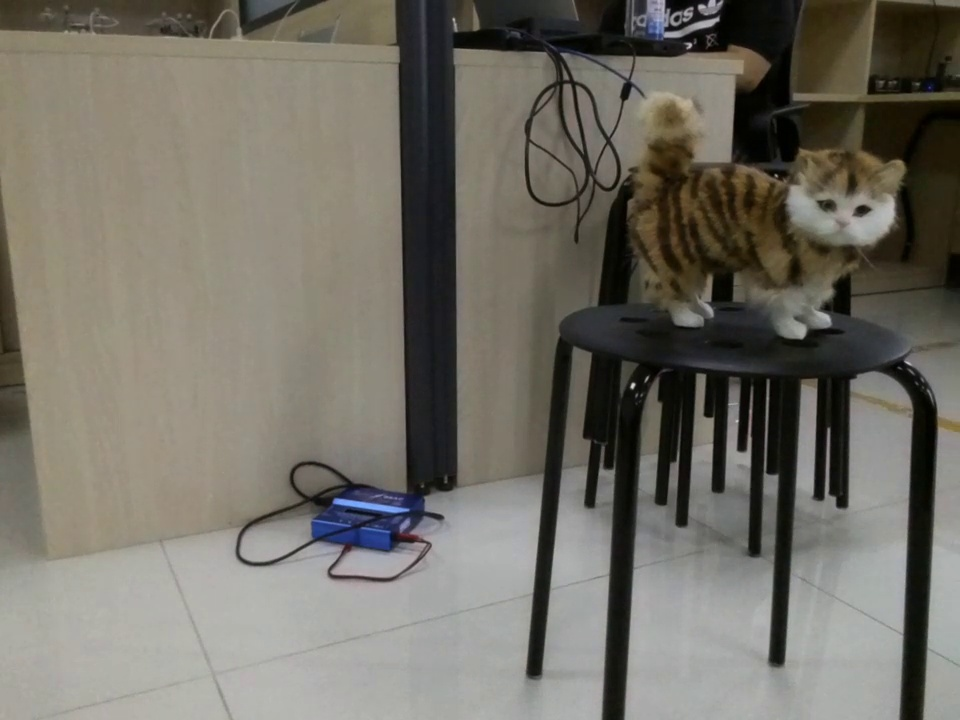cat: (623, 82, 906, 340)
